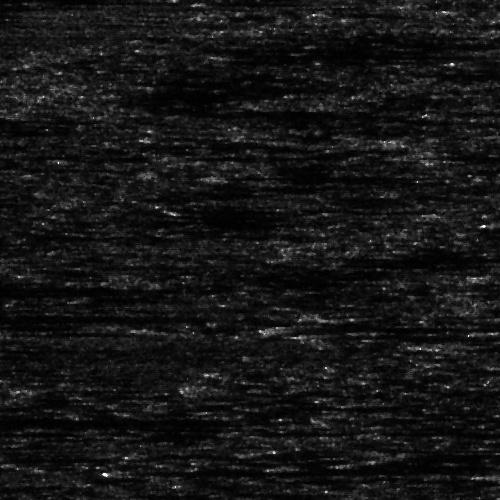object: (177, 164, 270, 187), (323, 453, 428, 468), (129, 150, 254, 161), (231, 320, 314, 333), (433, 468, 500, 479), (415, 344, 488, 349), (366, 152, 439, 157), (84, 467, 147, 472), (192, 52, 245, 57), (246, 464, 299, 469), (479, 219, 500, 226), (491, 69, 500, 82), (474, 273, 500, 276), (0, 329, 12, 334)
shadow: (223, 164, 393, 187), (273, 320, 494, 333), (0, 416, 179, 429), (0, 280, 152, 293), (376, 453, 500, 468), (115, 467, 426, 472), (192, 150, 304, 161), (219, 52, 444, 57), (273, 464, 491, 469), (0, 110, 45, 129), (0, 313, 155, 318), (0, 329, 138, 334), (403, 152, 500, 157), (451, 344, 500, 349)
